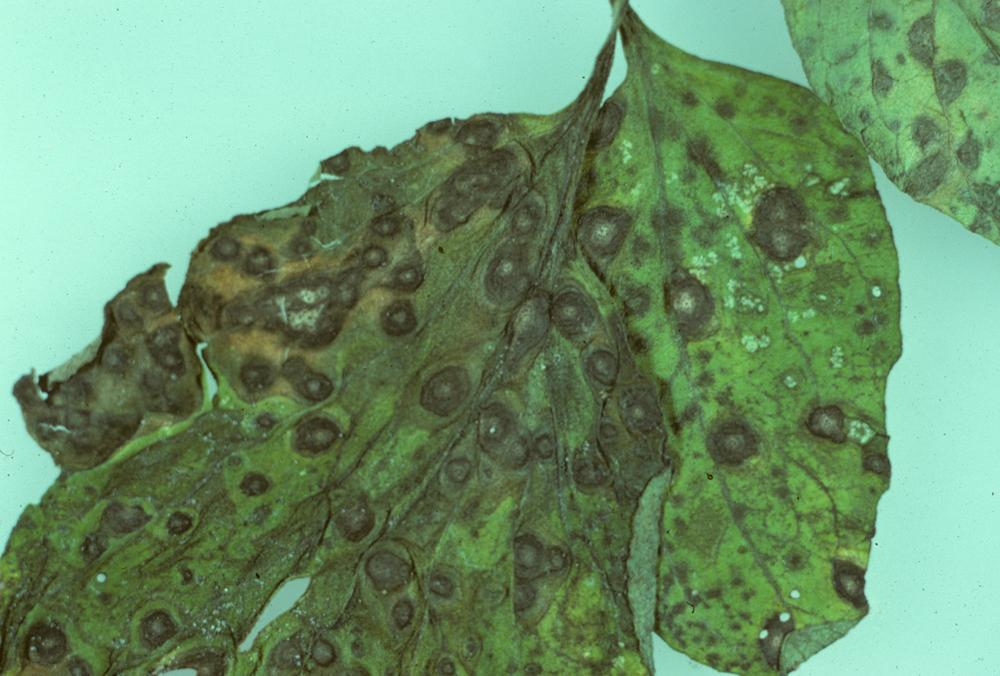Tomato Septoria leaf spot: (0, 31, 914, 676)
